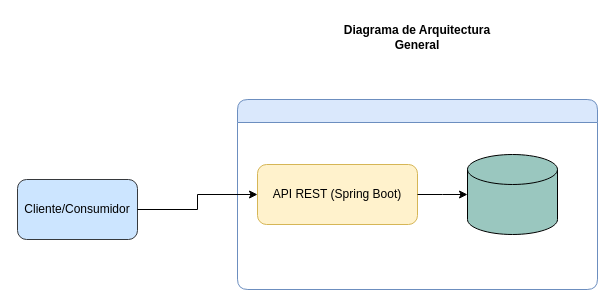
Image size: 615x307. Some labels were removed from this diagram. Each missing label, with the box of its shape:
Docker Compose: (236, 98, 598, 290)
PostgreSQL: (466, 154, 558, 234)
